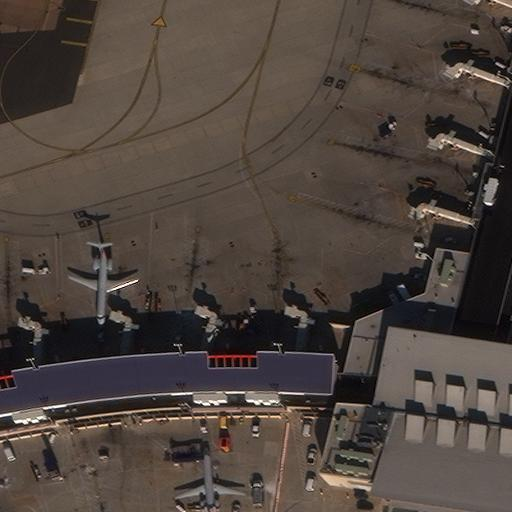Medium Civil Transport: (69, 241, 138, 326), (176, 447, 245, 512)
